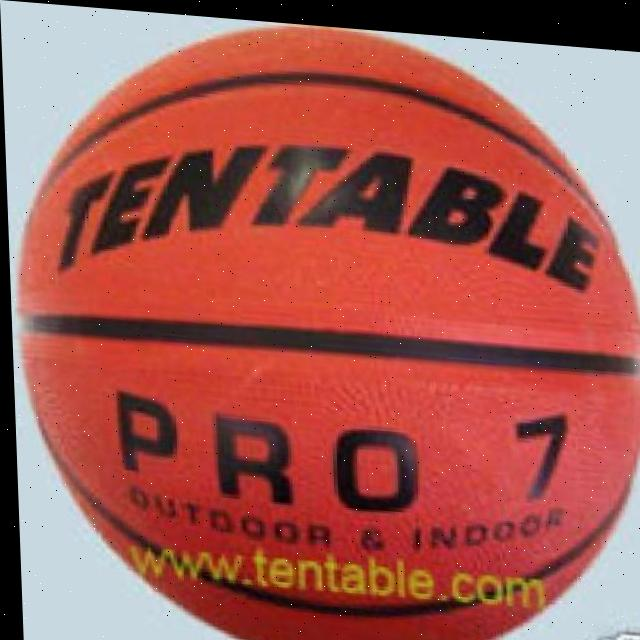Basketball: (10, 5, 640, 640)
